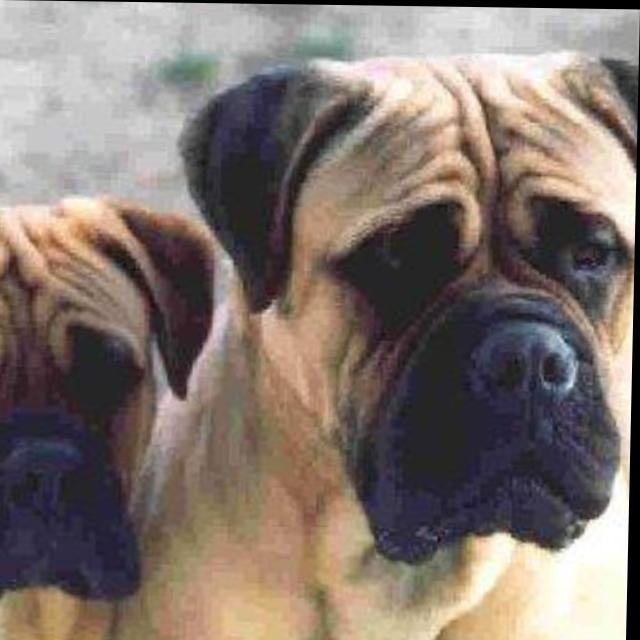bullmastiff: (122, 45, 640, 640), (1, 194, 217, 640)
